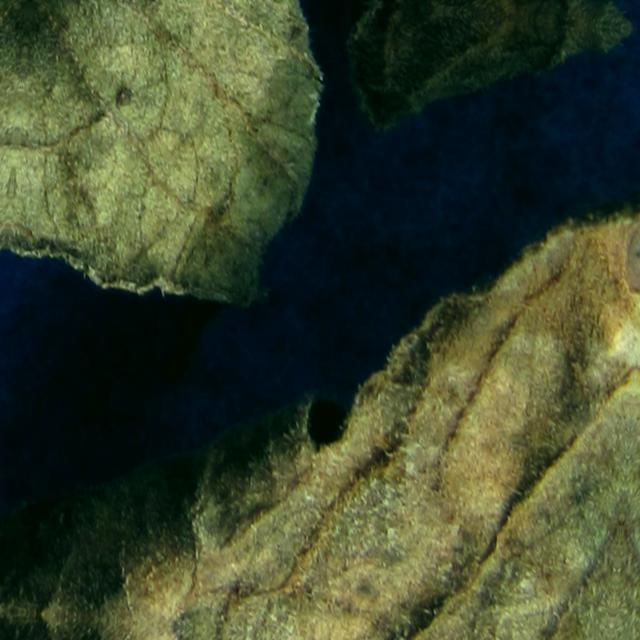Tomato leaf late blight: (0, 0, 344, 455), (30, 0, 640, 55)
